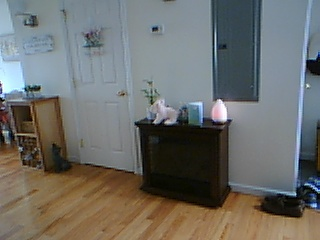piggy: (148, 98, 181, 126)
